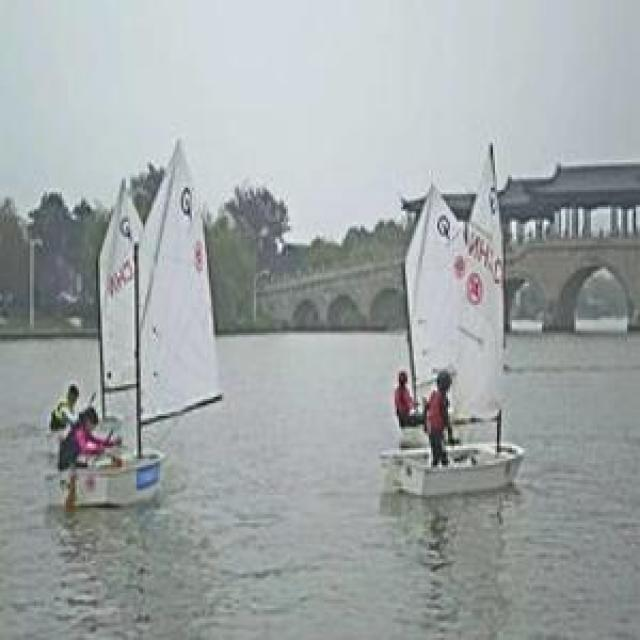sailboat: (62, 139, 218, 509), (387, 130, 530, 500), (39, 185, 145, 472), (368, 163, 454, 476)
